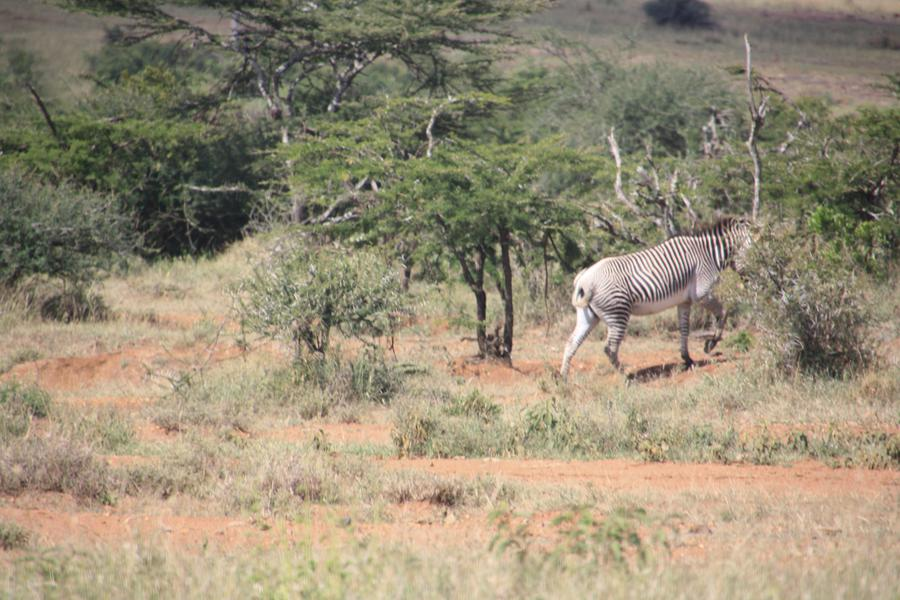zebra_grevys: (571, 239, 715, 293)
